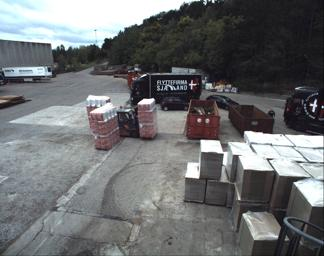rockwool_batts: (89, 103, 119, 147), (136, 99, 157, 139), (85, 92, 110, 115)
